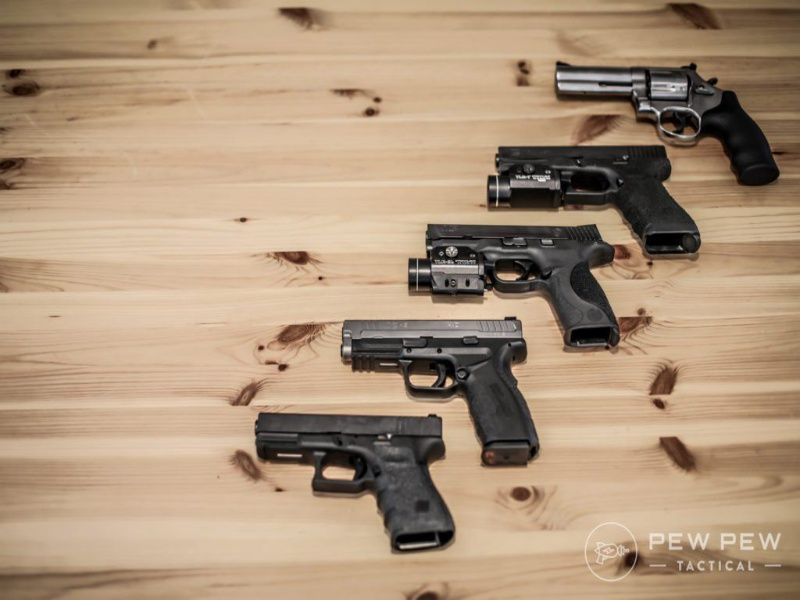gun: (403, 214, 638, 354), (341, 316, 553, 464), (251, 409, 473, 547), (551, 60, 793, 183), (483, 140, 713, 257)
